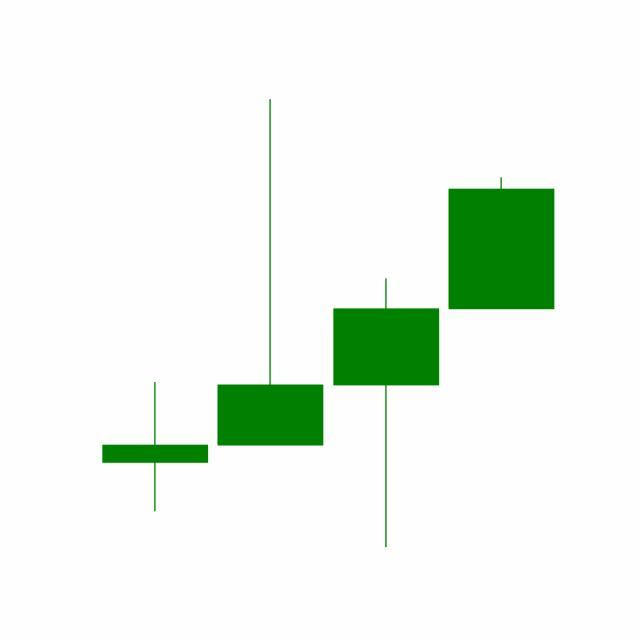Marubozu: (444, 176, 560, 312)
